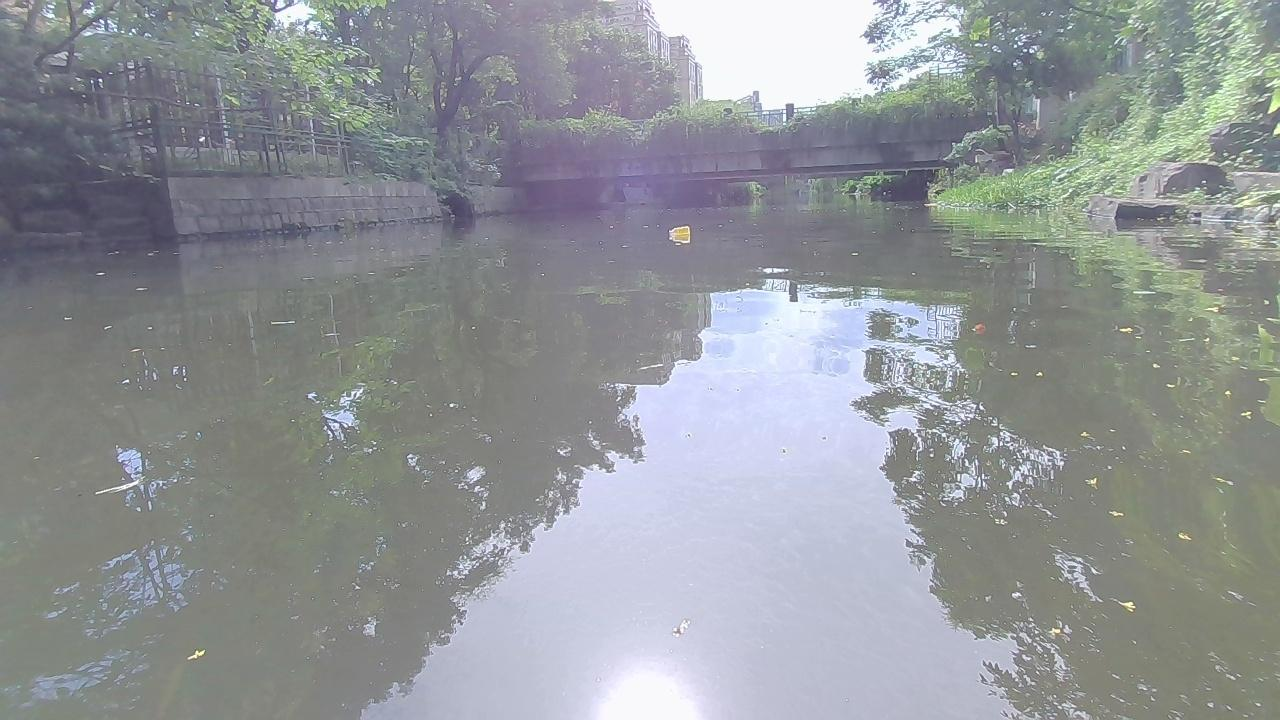bottle: (666, 226, 691, 236)
